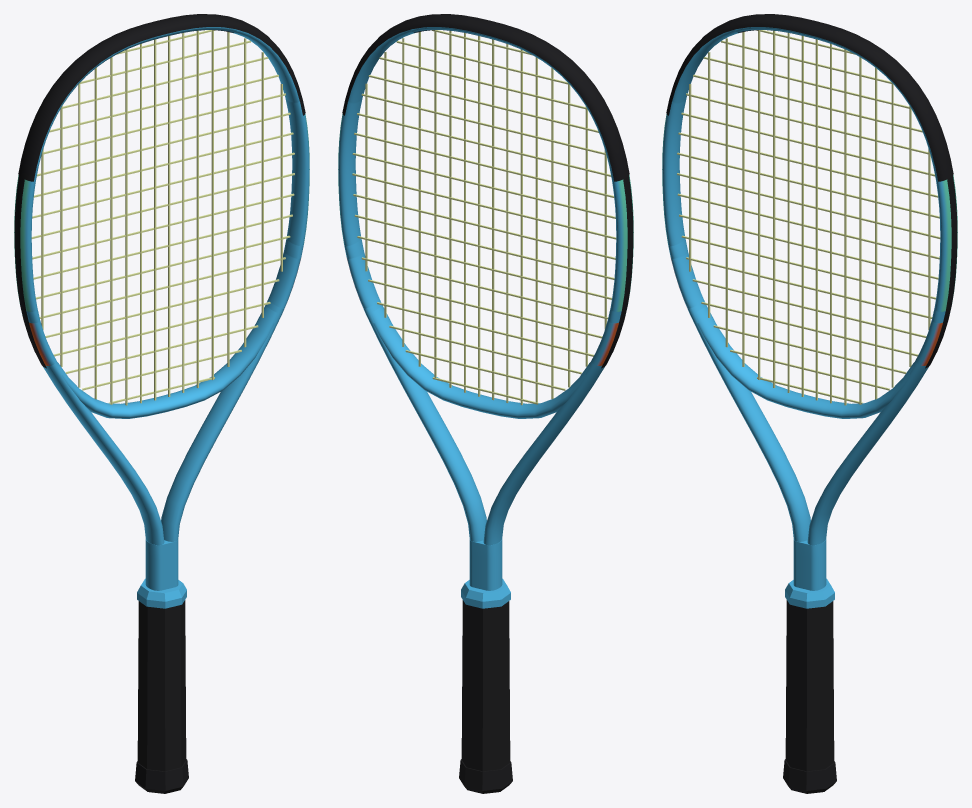
The model's file is yonex-junior-26.glb.
3 views of the same model, side by side, from view 1: azimuth 30°, elevation 25°; view 2: azimuth 150°, elevation 25°; view 3: azimuth 330°, elevation 25° (orthographic).
Visible parts, largest first — view 1: frame, strings_mains, strings_crosses, grip, bumper, butt_cap, grommets, collar; view 2: frame, strings_mains, strings_crosses, grip, bumper, butt_cap, grommets, collar; view 3: frame, strings_mains, strings_crosses, grip, bumper, butt_cap, grommets, collar.
Boxes of the visible parts, box(x1,y1,x2,y2) form: frame: box(14, 27, 309, 590); strings_mains: box(41, 30, 282, 405); strings_crosses: box(31, 30, 294, 404); grip: box(137, 600, 186, 771); bumper: box(18, 14, 305, 181); butt_cap: box(135, 759, 188, 793); grommets: box(14, 176, 46, 368); collar: box(137, 578, 186, 608); frame: box(338, 27, 633, 590); strings_mains: box(365, 30, 606, 405); strings_crosses: box(352, 30, 616, 404); grip: box(461, 600, 510, 771); bumper: box(342, 14, 629, 181); butt_cap: box(459, 759, 512, 793); grommets: box(601, 176, 633, 368); collar: box(461, 578, 510, 608); frame: box(662, 27, 957, 590); strings_mains: box(689, 30, 930, 405); strings_crosses: box(677, 30, 940, 404); grip: box(785, 600, 834, 771); bumper: box(666, 14, 953, 181); butt_cap: box(783, 759, 836, 793); grommets: box(925, 176, 957, 368); collar: box(785, 578, 834, 608).
Size of the model in its own units: 0.2636 by 0.6607 by 0.0396.
